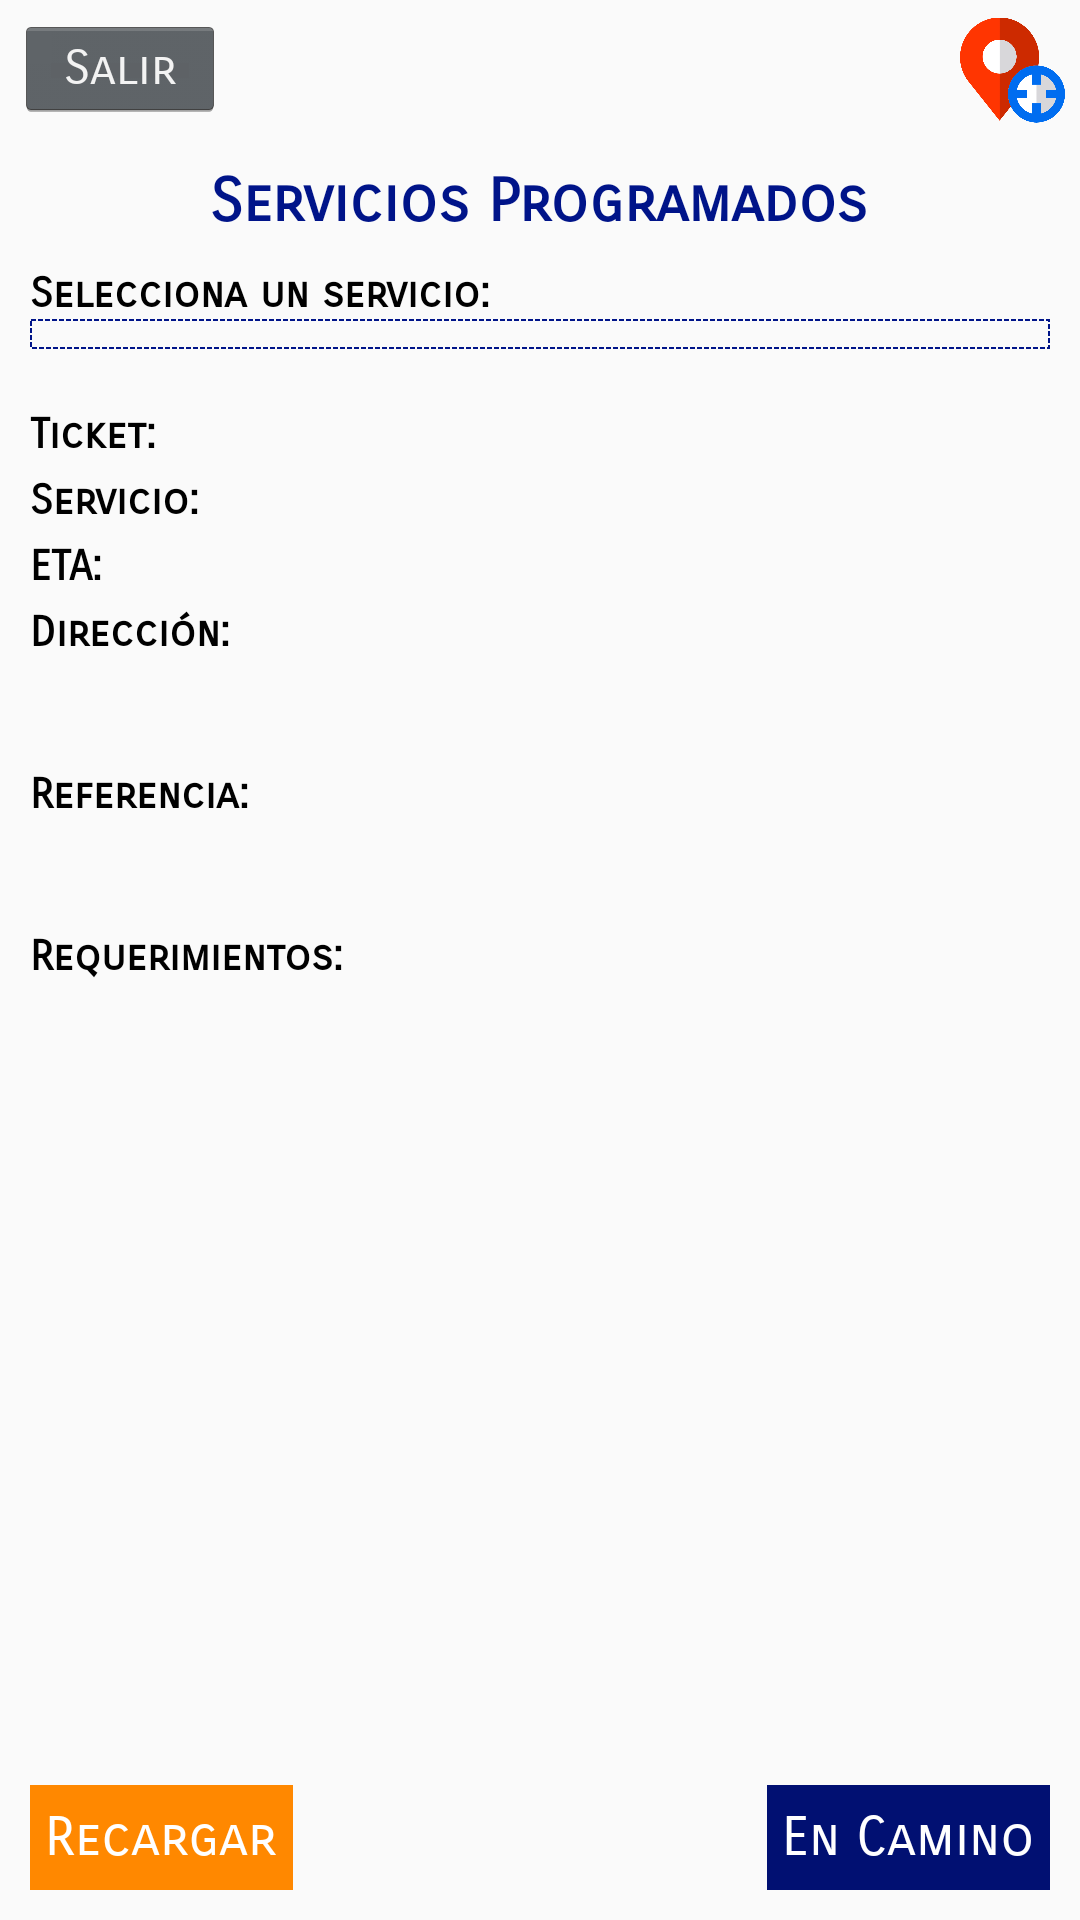

Icons on this 1080x1920 Android screen, each with the point to tap as (x,y):
icongps: (1012,70)
